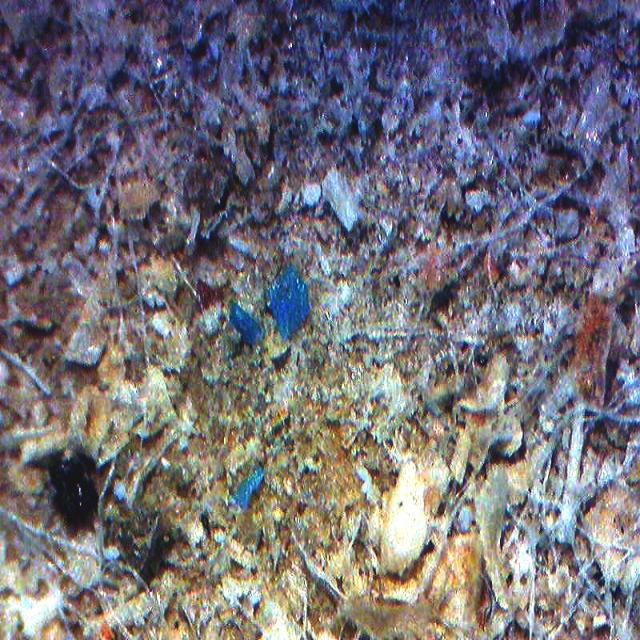microplastic: (266, 267, 311, 345), (233, 463, 266, 515), (232, 304, 261, 342)
